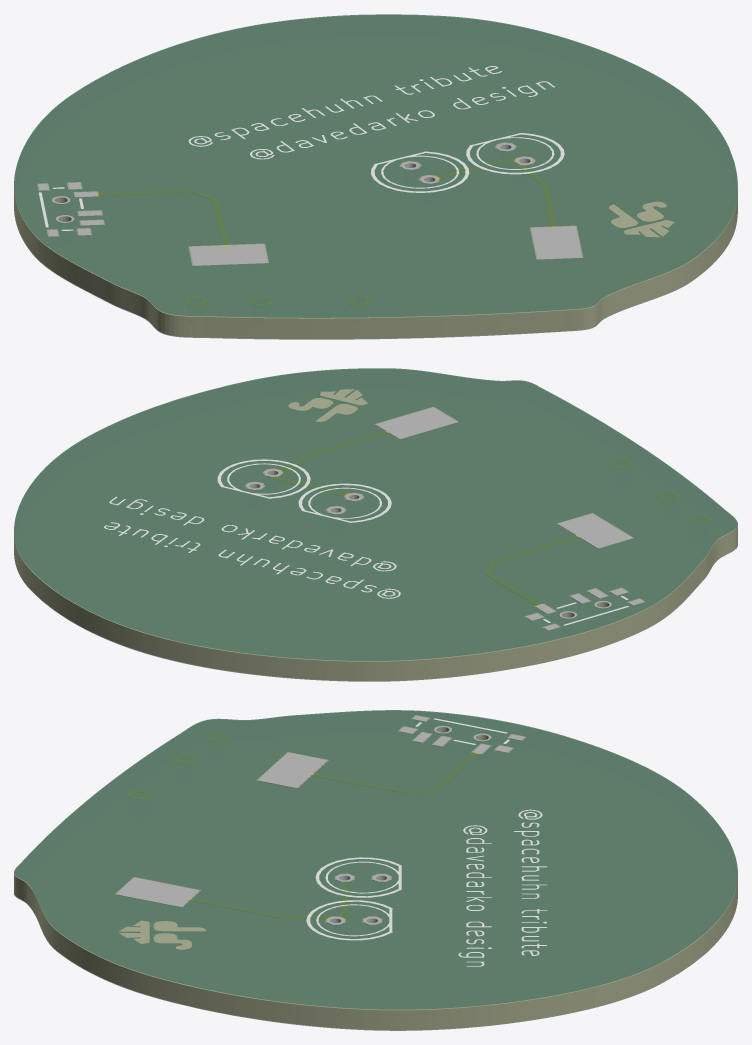
File: retro-spacehuhn-badge-pin.glb
3 views of the same model, one above another, from view 1: azimuth 30°, elevation 25°; view 2: azimuth 150°, elevation 25°; view 3: azimuth 270°, elevation 25° (orthographic). The views are drawn at different scales.
Visible parts, largest first — view 1: =>[0:1:1:8], =>[0:1:1:6], =>[0:1:1:2], =>[0:1:1:5]; view 2: =>[0:1:1:8], =>[0:1:1:6], =>[0:1:1:2], =>[0:1:1:5]; view 3: =>[0:1:1:8], =>[0:1:1:6], =>[0:1:1:2], =>[0:1:1:5].
Part boxes in pixels (x1=…): =>[0:1:1:8]: x1=14, y1=15, x2=737, y2=338; =>[0:1:1:6]: x1=14, y1=14, x2=737, y2=339; =>[0:1:1:2]: x1=38, y1=143, x2=581, y2=306; =>[0:1:1:5]: x1=39, y1=66, x2=564, y2=230; =>[0:1:1:8]: x1=14, y1=369, x2=737, y2=680; =>[0:1:1:6]: x1=14, y1=368, x2=737, y2=681; =>[0:1:1:2]: x1=246, y1=407, x2=710, y2=630; =>[0:1:1:5]: x1=104, y1=459, x2=628, y2=625; =>[0:1:1:8]: x1=14, y1=711, x2=737, y2=1030; =>[0:1:1:6]: x1=14, y1=710, x2=737, y2=1030; =>[0:1:1:2]: x1=116, y1=715, x2=524, y2=924; =>[0:1:1:5]: x1=306, y1=718, x2=547, y2=966.
Bounding box in the file's own units: 0.049 × 0.00163 × 0.05.
Materials: 4 (4 with a texture image).
